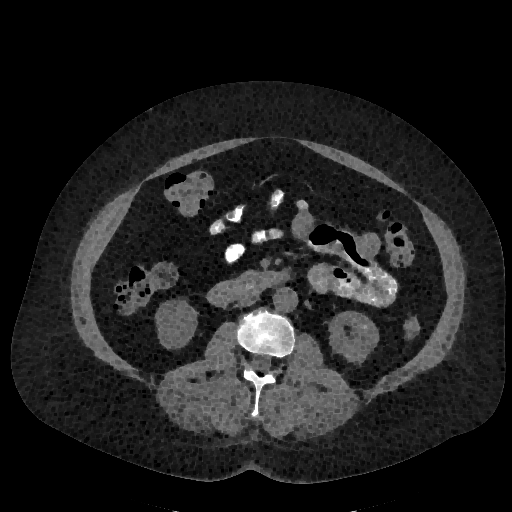Lesion: (360, 323, 368, 329)
